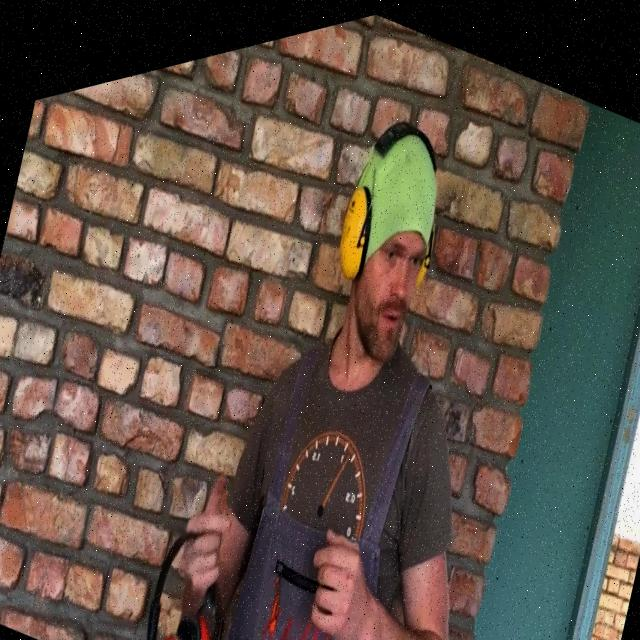Earmuffs: (340, 186, 370, 280)
No Glove: (179, 478, 253, 613), (311, 530, 369, 640)
No Hardhat: (361, 126, 440, 189)
No Overall Suit: (229, 348, 450, 640)
